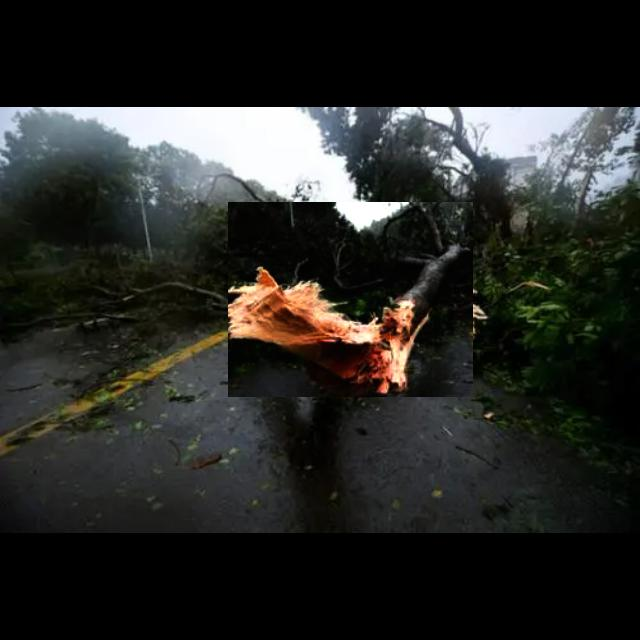Fallen Tree: (228, 202, 474, 398)
